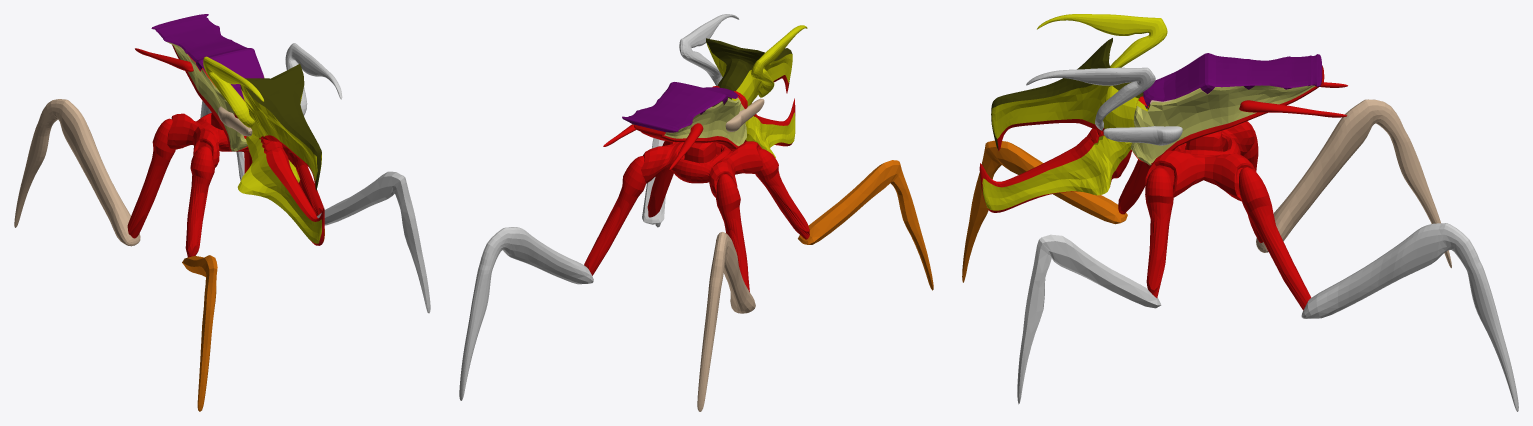
Rendered from aracnido_000012.obj.
3 renders of one model, left to right at view 1: azimuth 30°, elevation 25°; view 2: azimuth 150°, elevation 25°; view 3: azimuth 270°, elevation 25°, orthographic. The views are drawn at different scales.
Parts seen in each view (by area): view 1: ARAK-BODY-; view 2: ARAK-BODY-; view 3: ARAK-BODY-.
Part boxes in pixels (x1=…): ARAK-BODY-: x1=14, y1=14, x2=430, y2=411; ARAK-BODY-: x1=459, y1=14, x2=933, y2=411; ARAK-BODY-: x1=962, y1=14, x2=1518, y2=411.
Bounding box in the file's own units: 2.64 × 2.71 × 4.26.
